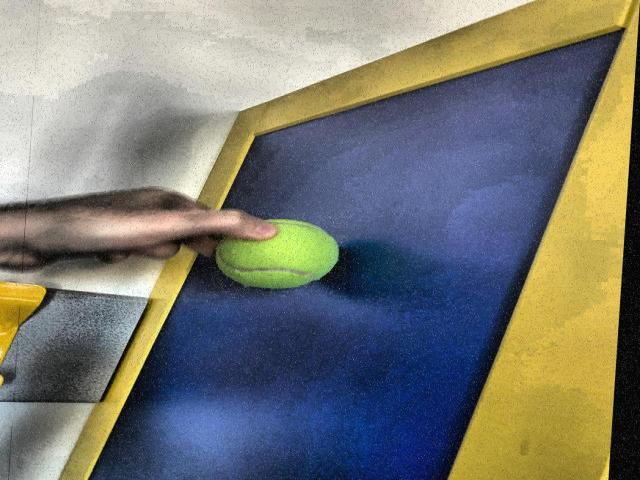tennis-ball: (217, 217, 338, 289)
